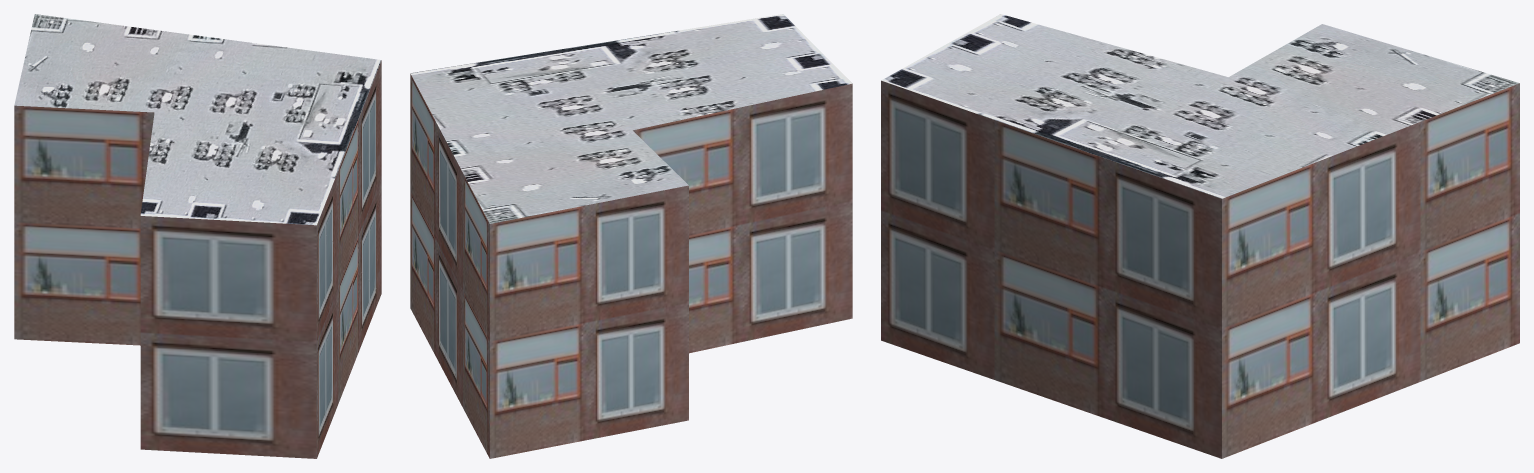
File: ResTex__3840.fbx
3 views of the same model, side by side, from view 1: azimuth 30°, elevation 25°; view 2: azimuth 150°, elevation 25°; view 3: azimuth 270°, elevation 25° (orthographic). The views are drawn at different scales.
Visible parts, largest first — view 1: CityEngineMaterial_19_m, CityEngineMaterial_15_m; view 2: CityEngineMaterial_19_m, CityEngineMaterial_15_m; view 3: CityEngineMaterial_19_m, CityEngineMaterial_15_m.
Boxes of the visible parts, x1=… form: CityEngineMaterial_19_m: x1=14, y1=61, x2=381, y2=458; CityEngineMaterial_15_m: x1=14, y1=14, x2=381, y2=225; CityEngineMaterial_19_m: x1=410, y1=74, x2=852, y2=458; CityEngineMaterial_15_m: x1=410, y1=14, x2=852, y2=223; CityEngineMaterial_19_m: x1=881, y1=80, x2=1519, y2=458; CityEngineMaterial_15_m: x1=881, y1=14, x2=1519, y2=198.
Bounding box in the file's own units: 9.15 × 6 × 13.36.
Materials: 2 (2 with a texture image).
